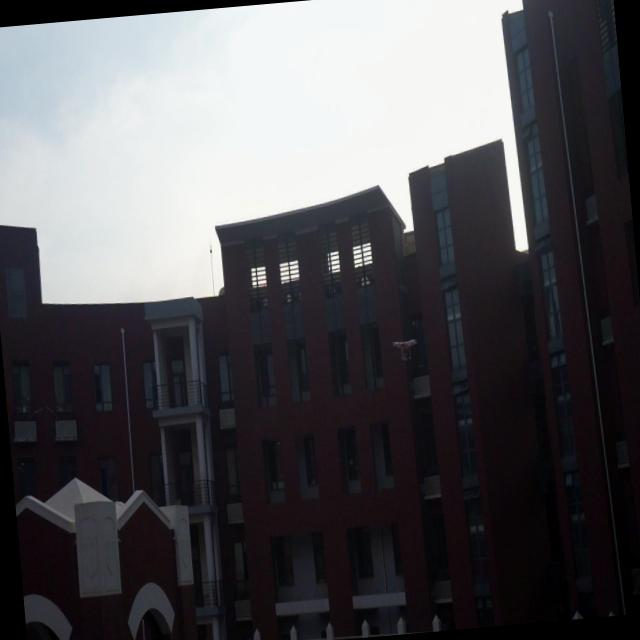drone: (389, 333, 422, 362)
